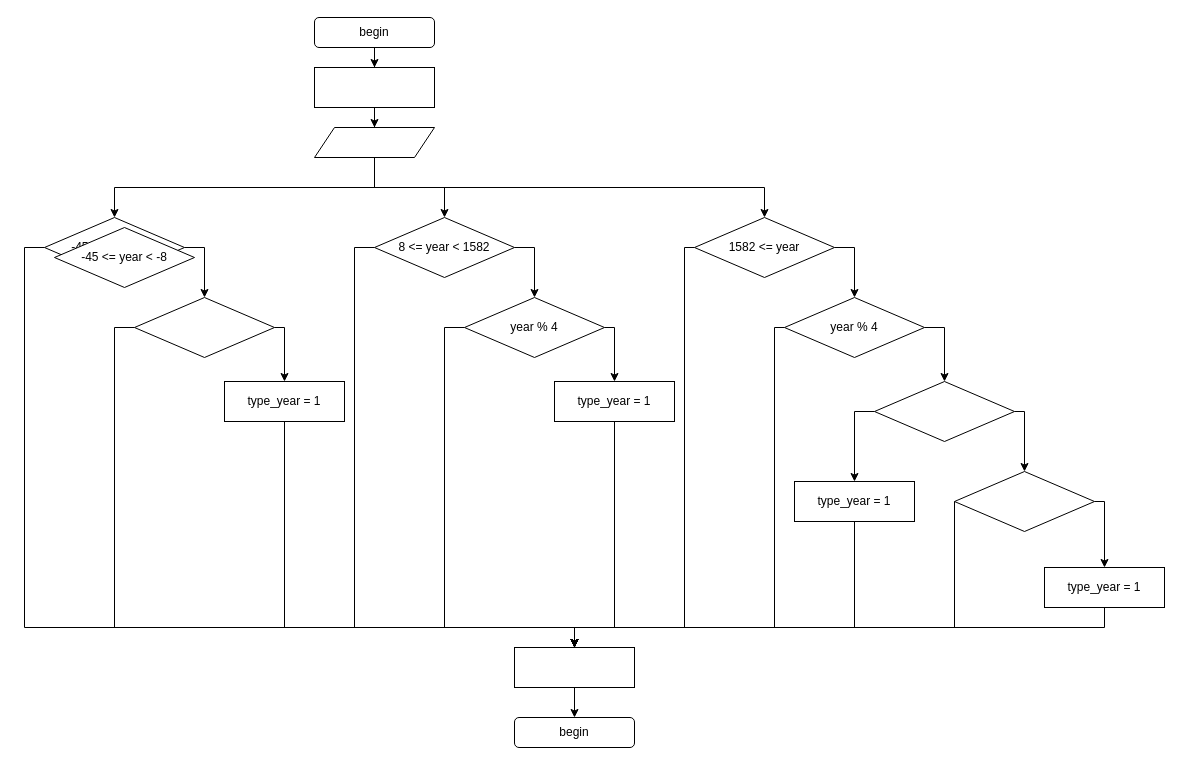
The diagram is 1182 pixels wide and 765 high, and some of its shapes have lost their labels. Here are the shapes that lost their labels. From the top down, the centre of each, then its label:
At pixel 374 87: "type_year = 0".
At pixel 374 142: "year".
At pixel 204 327: "year % 3".
At pixel 944 411: "year % 100".
At pixel 1024 501: "year % 400".
At pixel 574 667: "print results".
